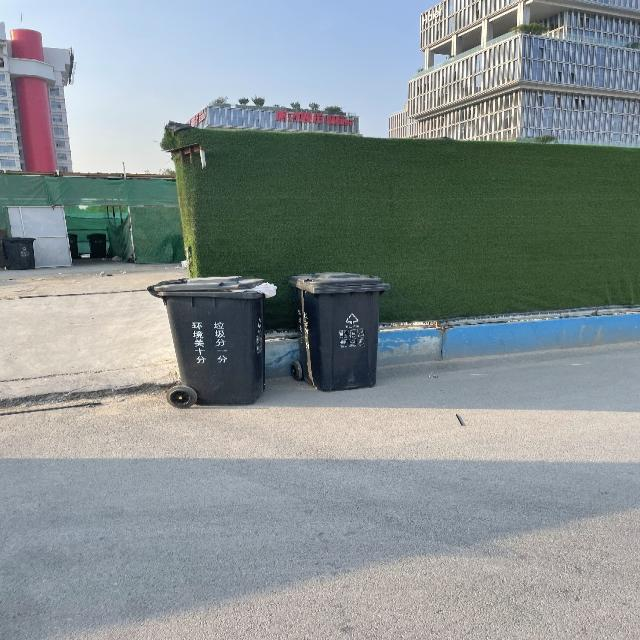garbage_bin: (287, 271, 389, 391), (3, 236, 34, 269), (85, 232, 106, 258)
overflow: (147, 275, 276, 405)
